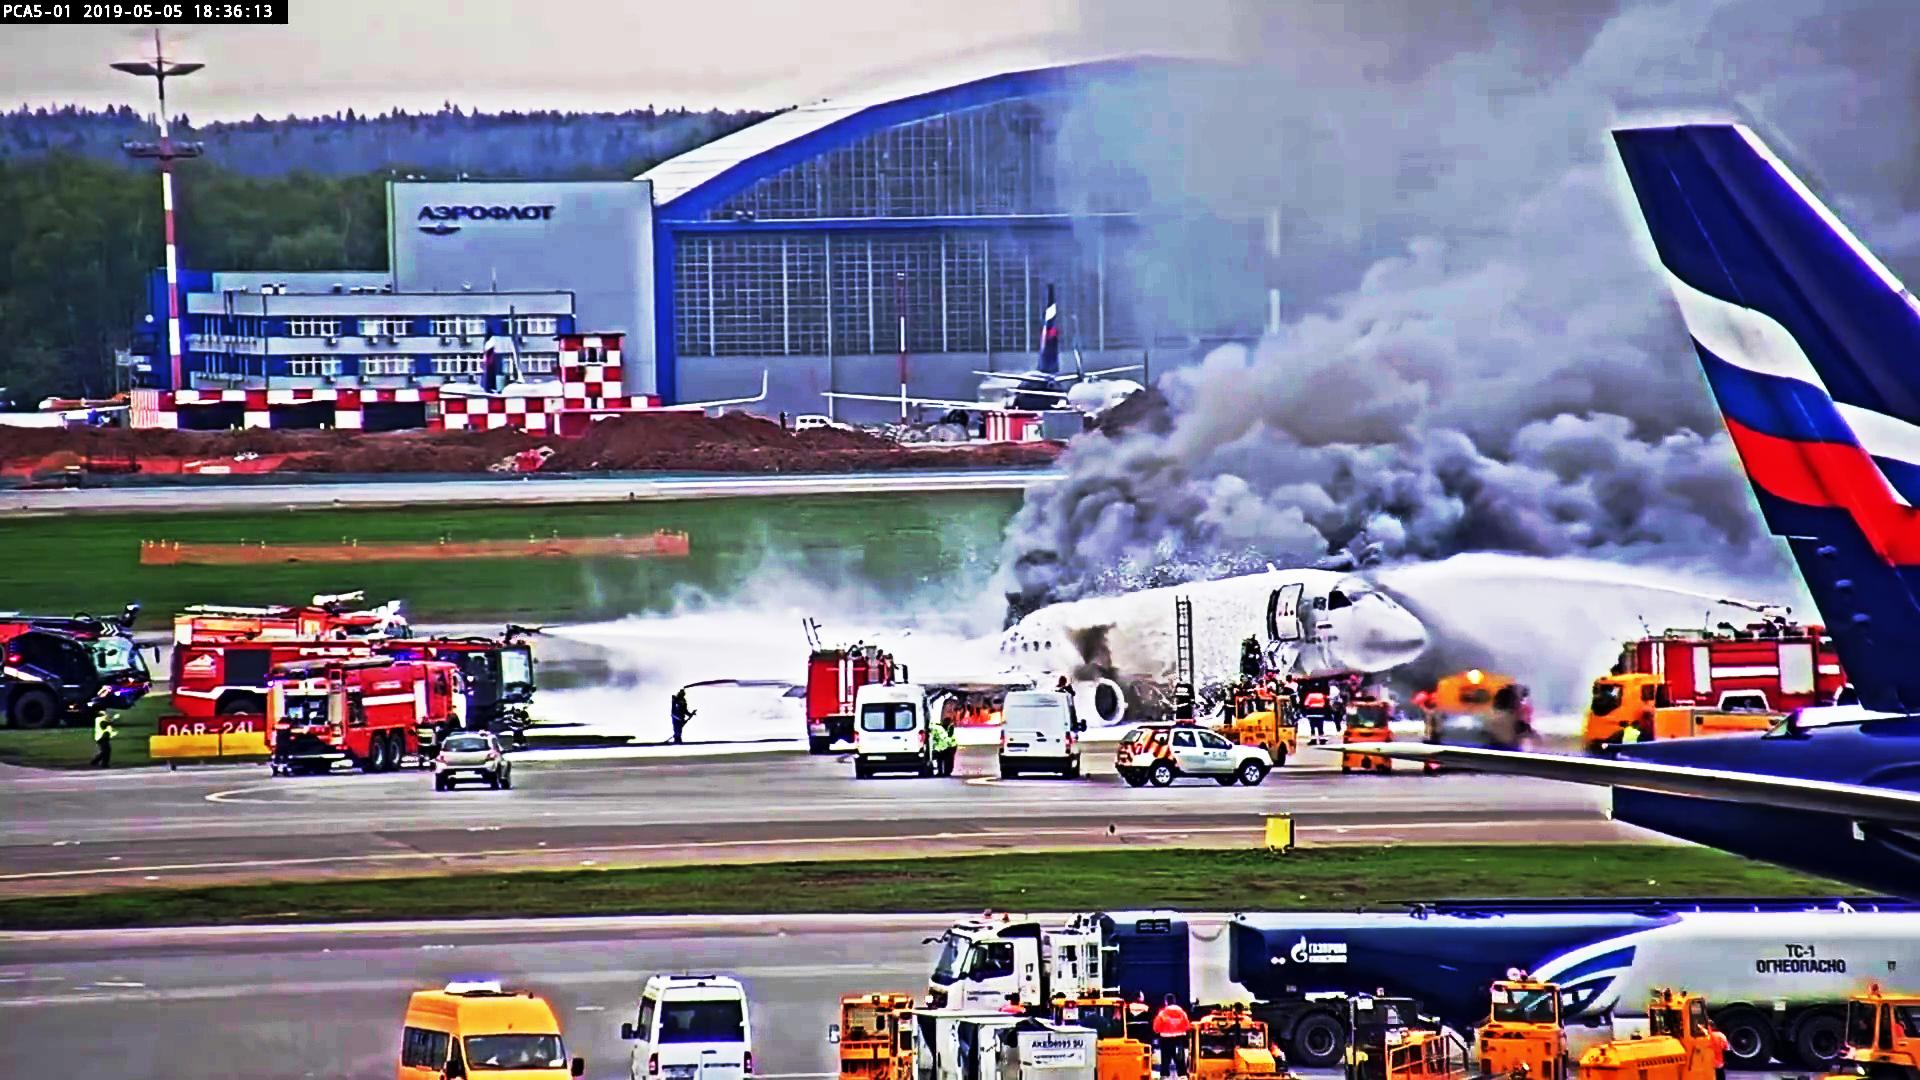smoke: (1193, 13, 1601, 521), (989, 0, 1519, 373)
